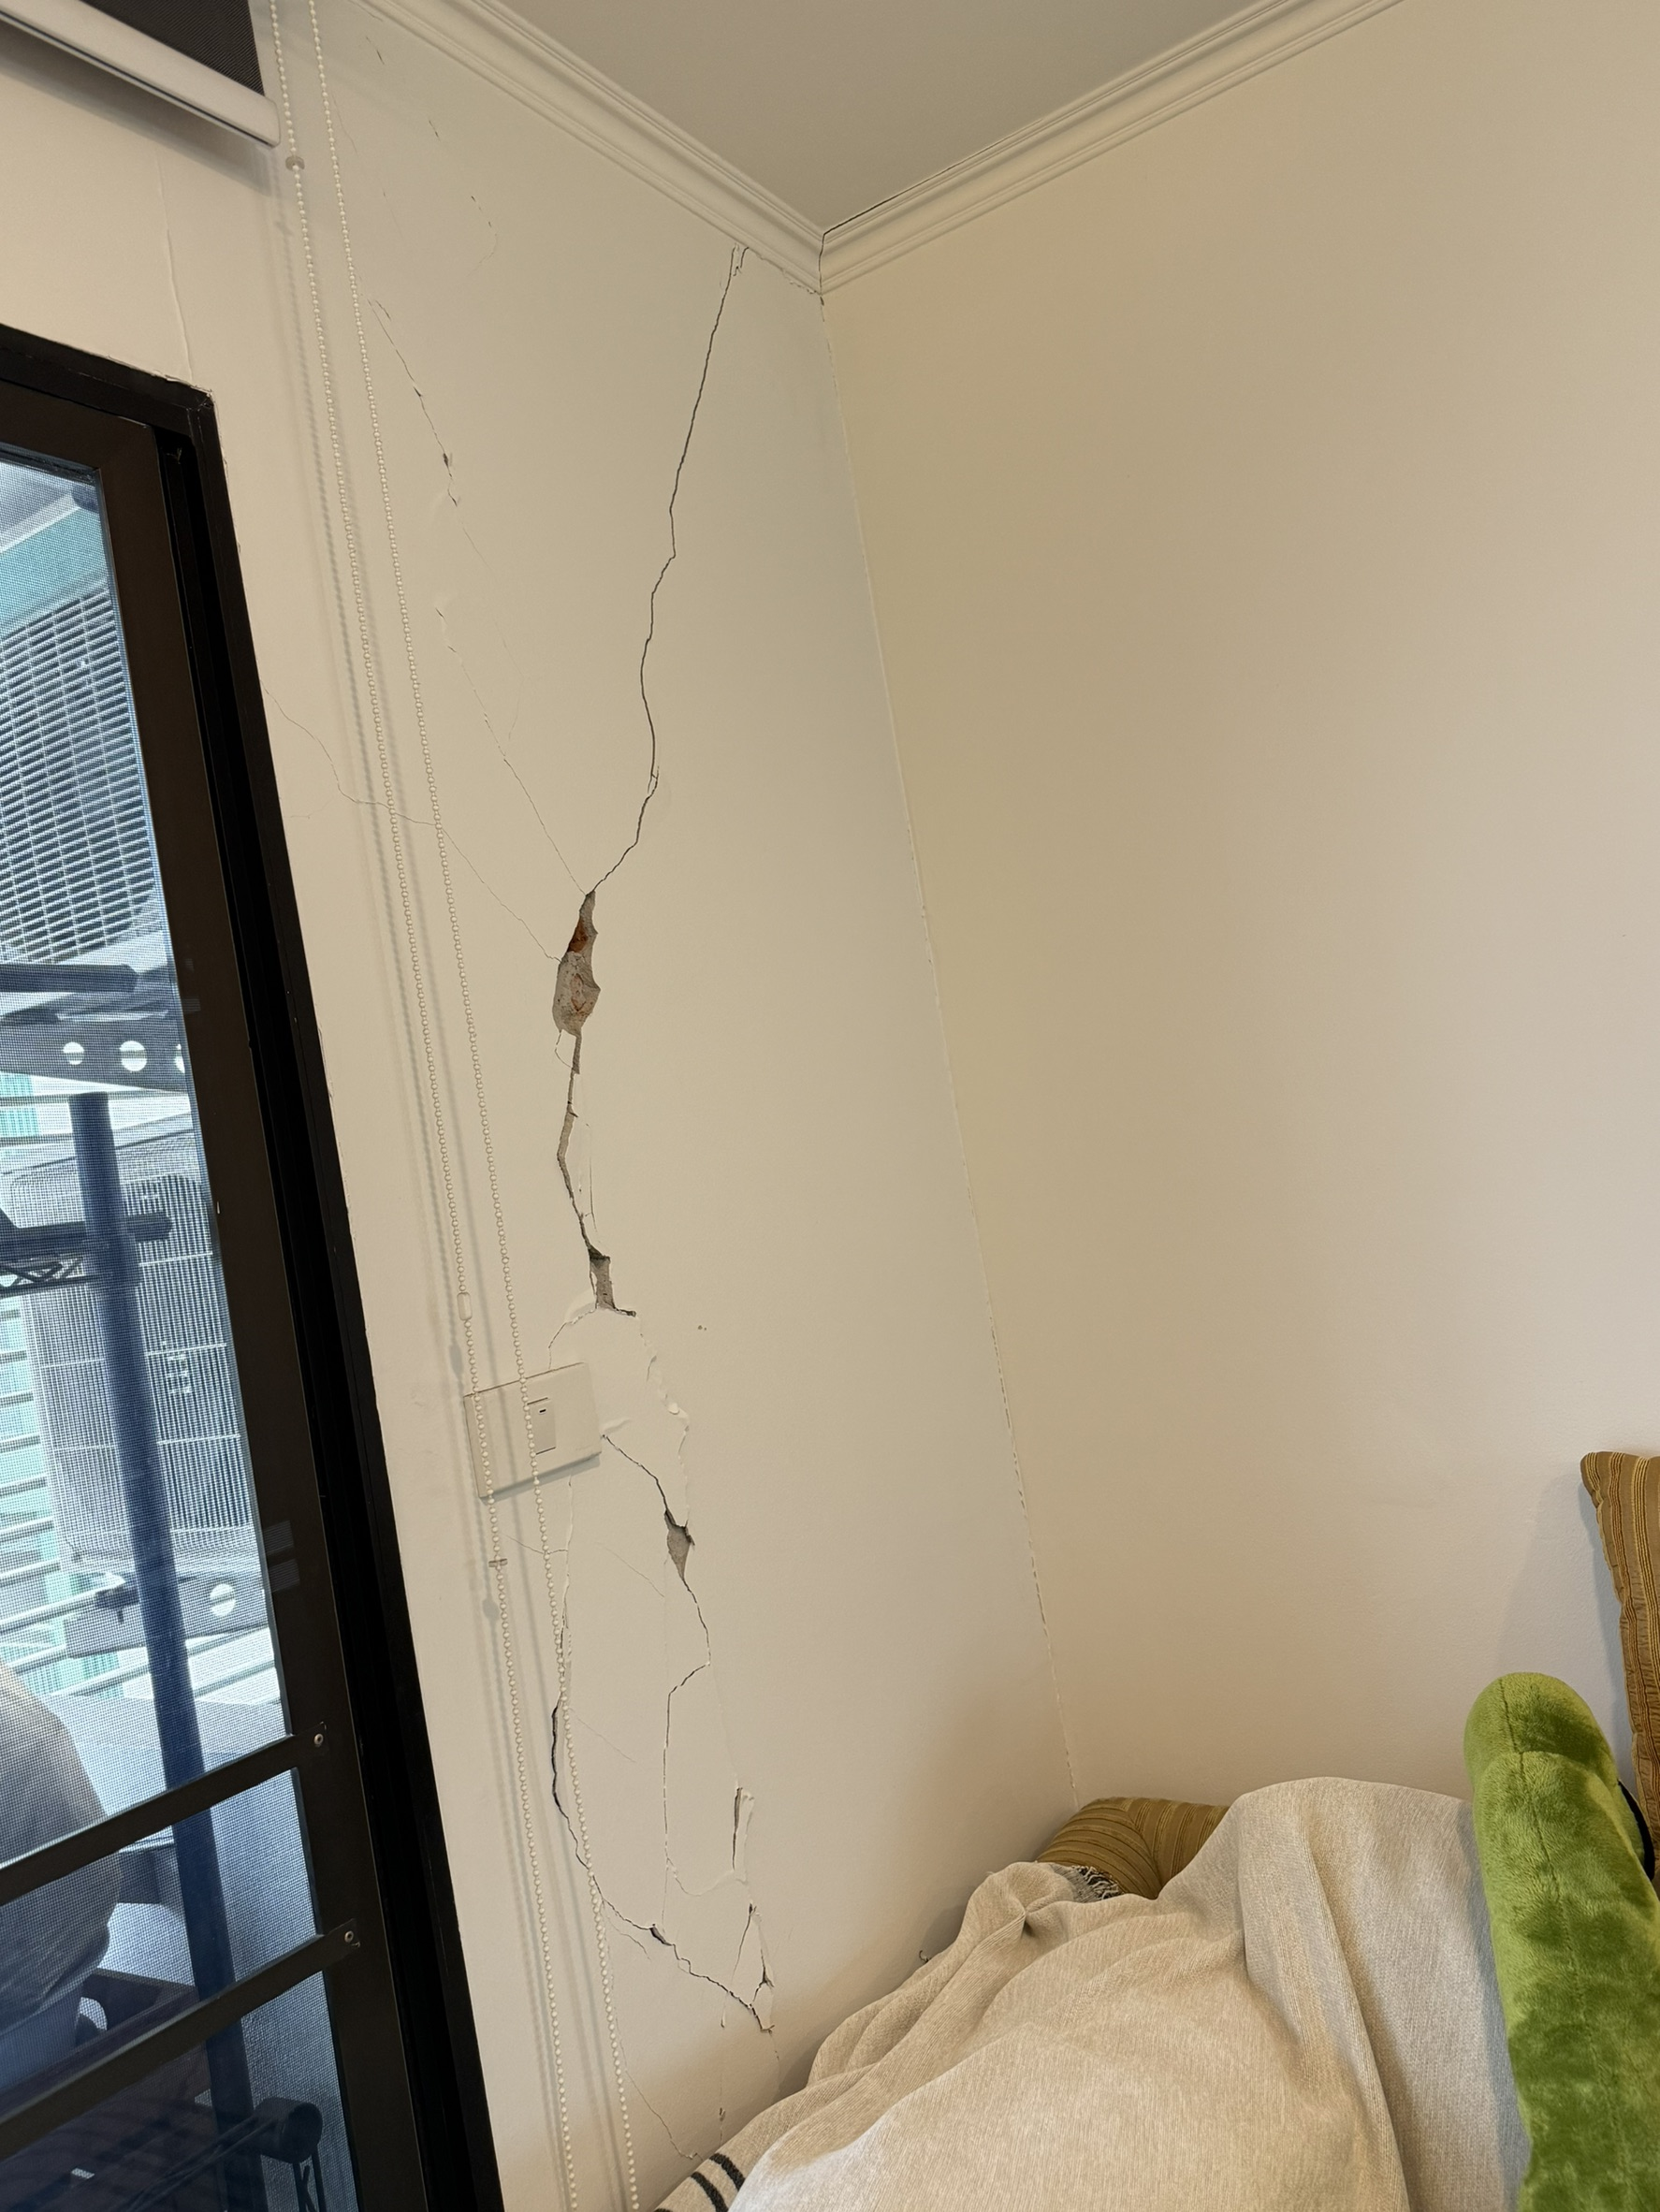High: (438, 126, 863, 2057)
